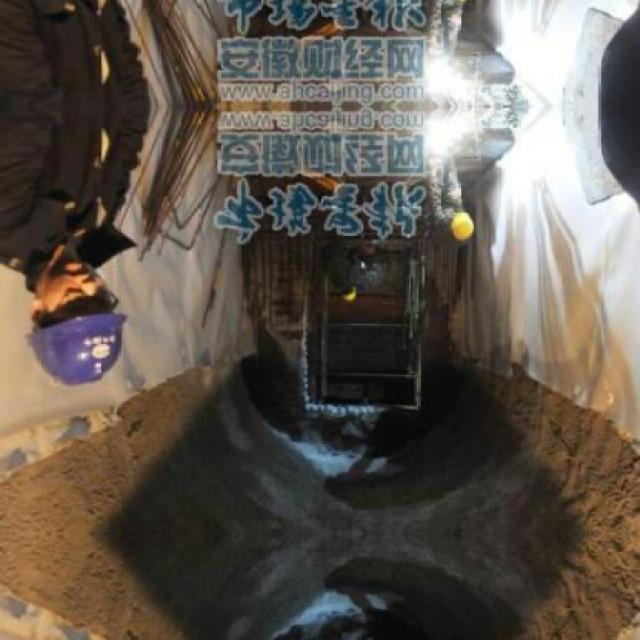con casco: (26, 292, 146, 368)
